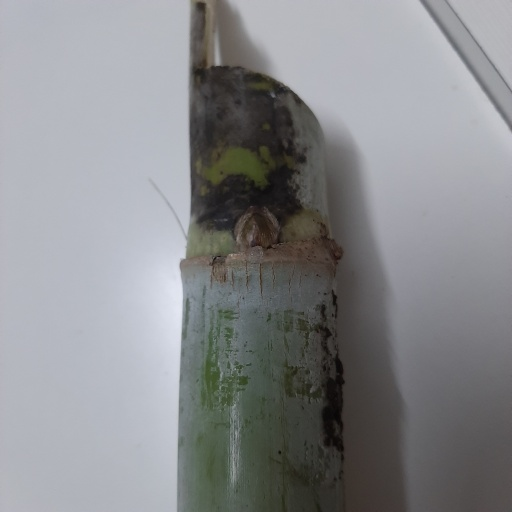Bud: (238, 211, 281, 246)
